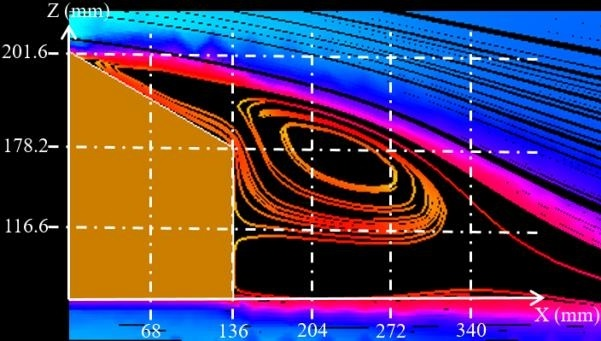vortox: (237, 96, 447, 243)
